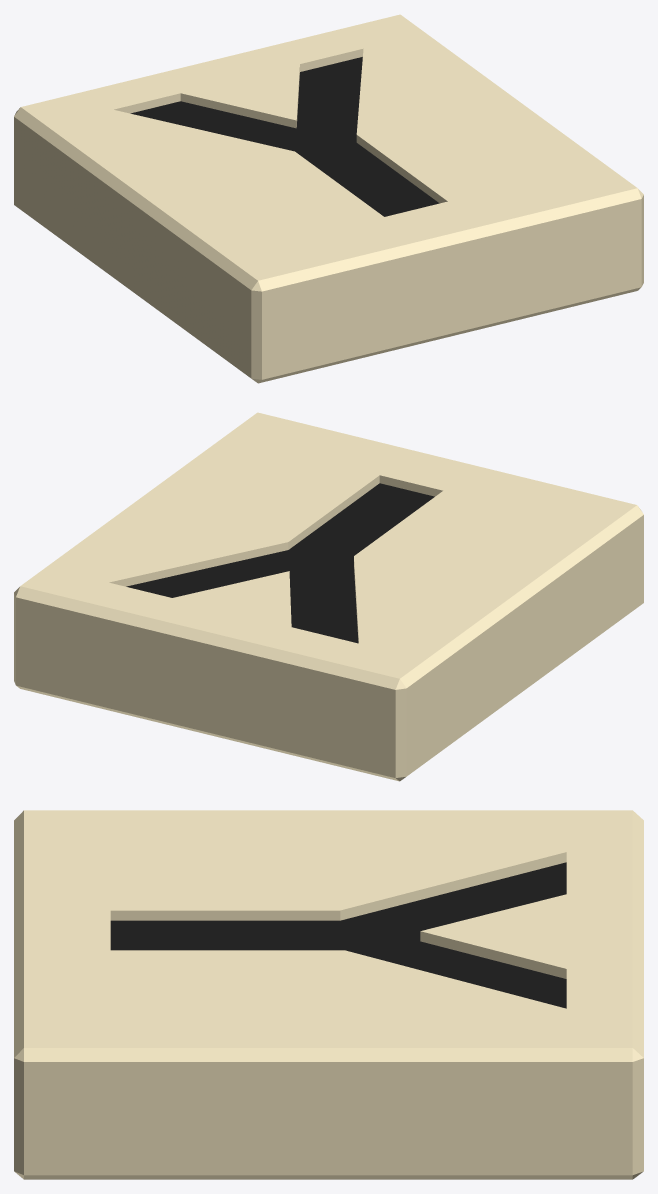
Rendered from Game_Anagram_Tile_Y_01.fbx.
The picture shows the model from 3 angles, top to bottom: view 1: azimuth 30°, elevation 25°; view 2: azimuth 150°, elevation 25°; view 3: azimuth 270°, elevation 25°; orthographic projection. The views are drawn at different scales.
Parts seen in each view (by area): view 1: Model; view 2: Model; view 3: Model.
Boxes of the visible parts, <box> form: Model: <box>14,14,643,383</box>; Model: <box>14,412,643,781</box>; Model: <box>14,810,643,1179</box>.
Size of the model in its own units: 463 by 116 by 502.
